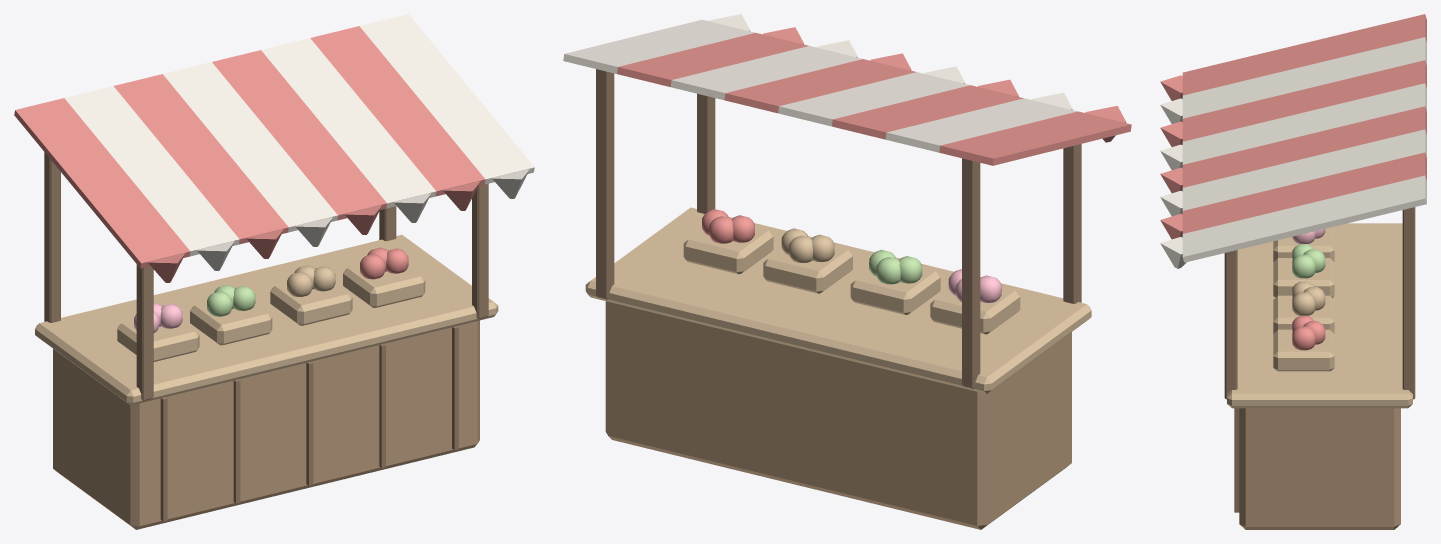
Rendered from prop_stall.glb.
The picture shows the model from 3 angles, left to right: view 1: azimuth 30°, elevation 25°; view 2: azimuth 150°, elevation 25°; view 3: azimuth 270°, elevation 25°; orthographic projection. The views are drawn at different scales.
Visible parts, largest first — view 1: prop_stall; view 2: prop_stall; view 3: prop_stall.
Boxes of the visible parts, box(x1,y1,x2,y2) form: prop_stall: box(14, 14, 534, 529); prop_stall: box(563, 14, 1131, 529); prop_stall: box(1160, 14, 1426, 529).
Size of the model in its own units: 2.7 by 2.35 by 1.65.
